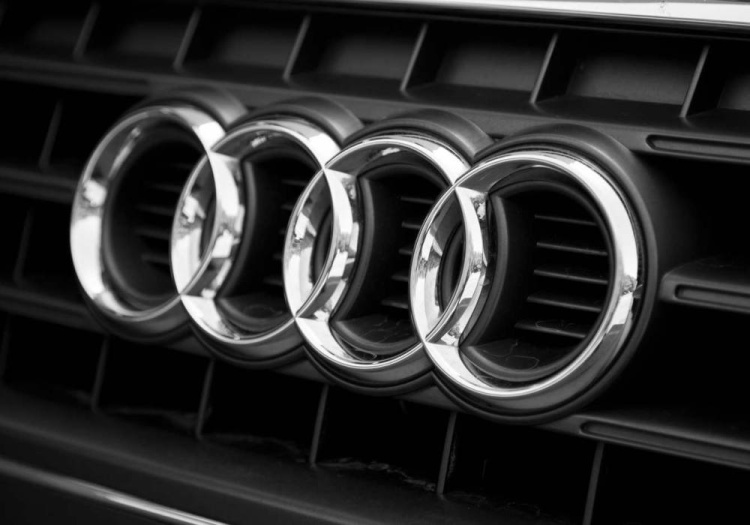audi: (56, 59, 663, 444)
